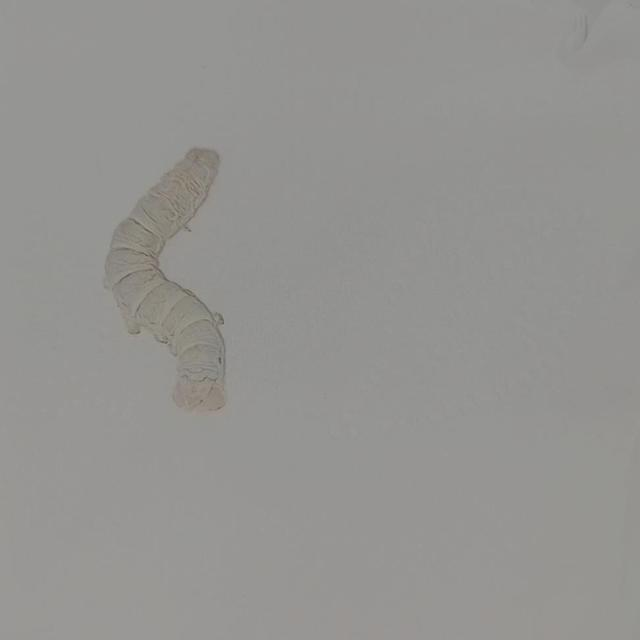Healthy: (86, 119, 264, 438)
